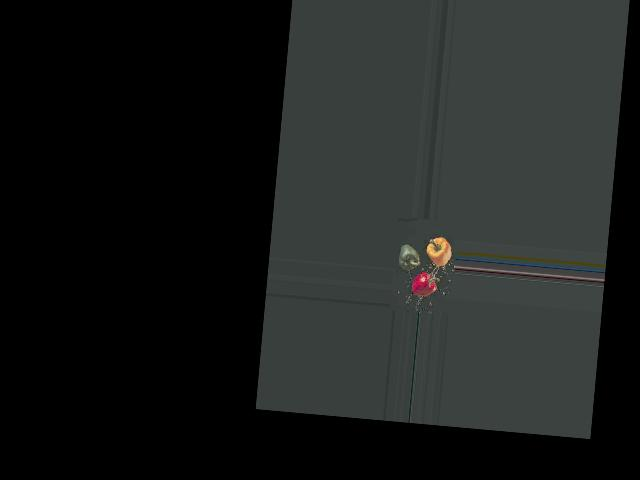bell_pepper: (405, 266, 444, 298)
